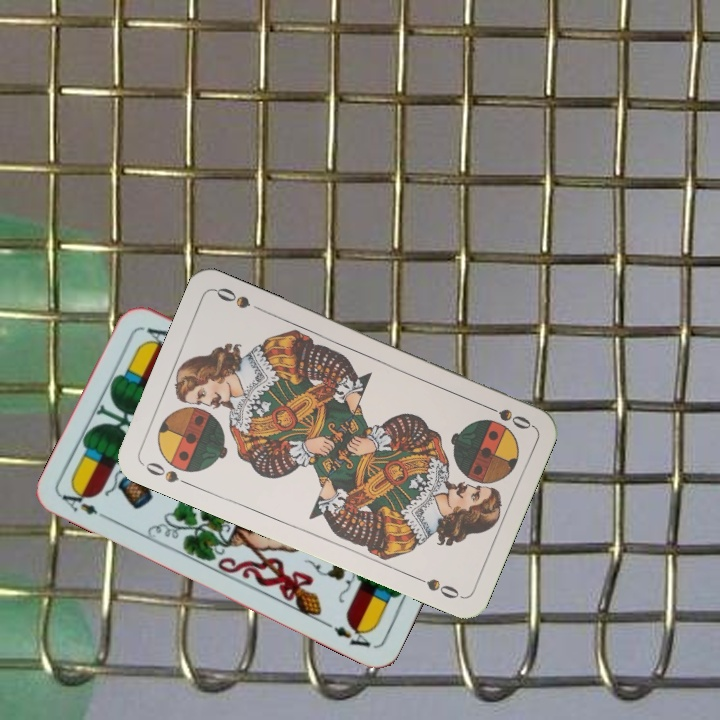EA: (58, 483, 113, 523)
SO: (478, 399, 534, 432), (139, 458, 195, 489)
